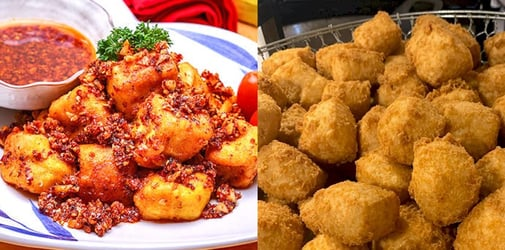Tahu: (297, 185, 407, 240), (408, 134, 480, 214), (284, 102, 353, 167), (318, 22, 379, 79), (402, 28, 461, 70)
